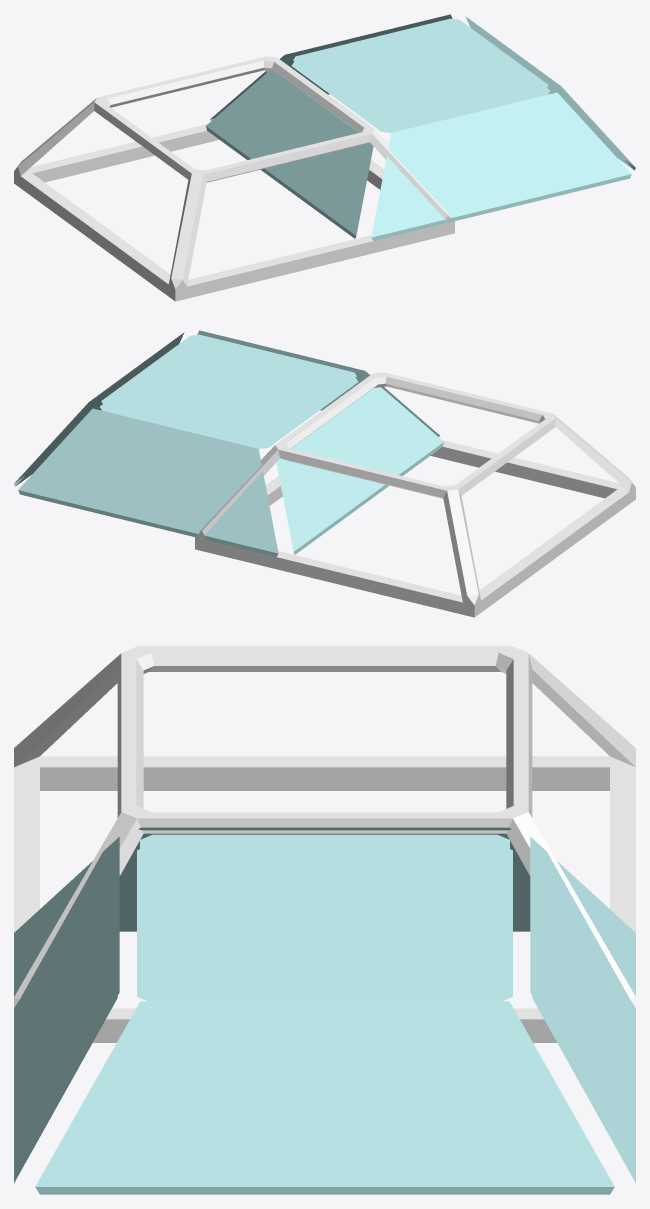
Rendered from Roof_Glass_01_6x6.glb.
3 views of the same model, one above another, from view 1: azimuth 30°, elevation 25°; view 2: azimuth 150°, elevation 25°; view 3: azimuth 270°, elevation 25° (orthographic). The views are drawn at different scales.
Parts seen in each view (by area): view 1: Glass, Roof_Glass_01_6x6; view 2: Glass, Roof_Glass_01_6x6; view 3: Glass, Roof_Glass_01_6x6.
Part boxes in pixels (left/top/right/bottom): Glass: left=206, top=14, right=635, bottom=240; Roof_Glass_01_6x6: left=14, top=56, right=454, bottom=301; Glass: left=14, top=330, right=443, bottom=556; Roof_Glass_01_6x6: left=195, top=372, right=635, bottom=617; Glass: left=14, top=827, right=635, bottom=1194; Roof_Glass_01_6x6: left=14, top=646, right=635, bottom=1042.
Size of the model in its own units: 10 by 1.9 by 6.
